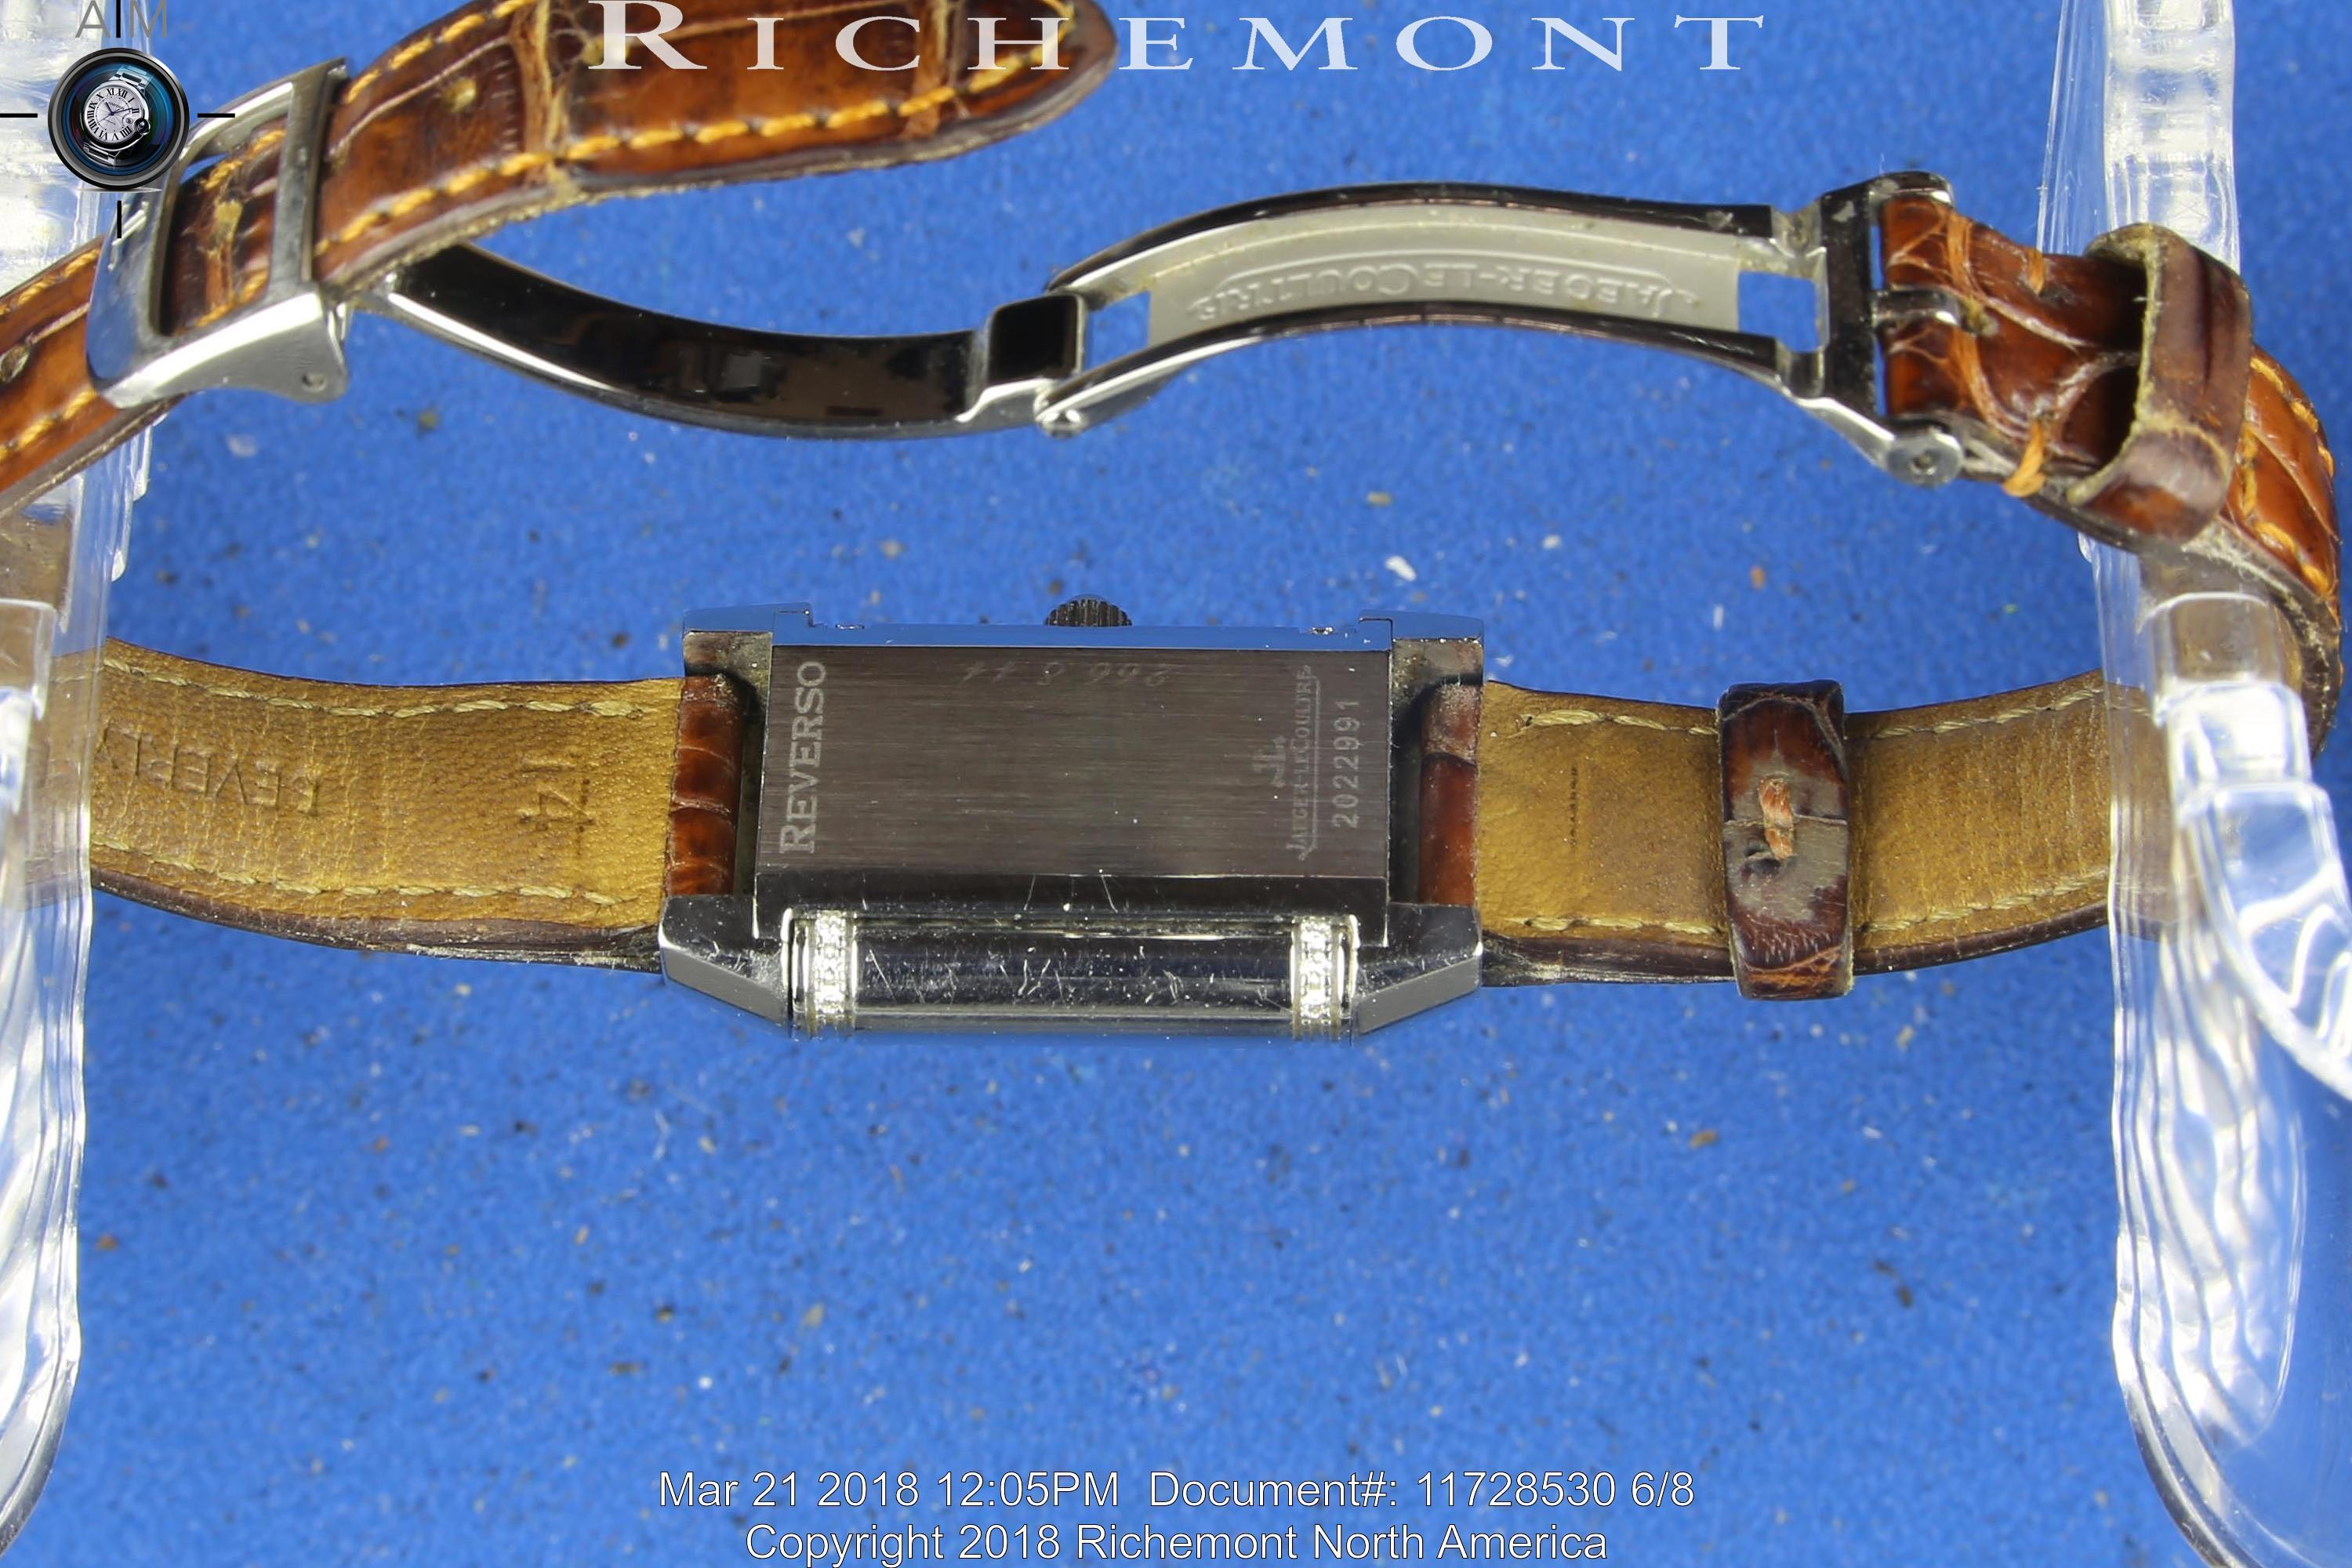Watch Back Case: (670, 595, 1486, 1047)
